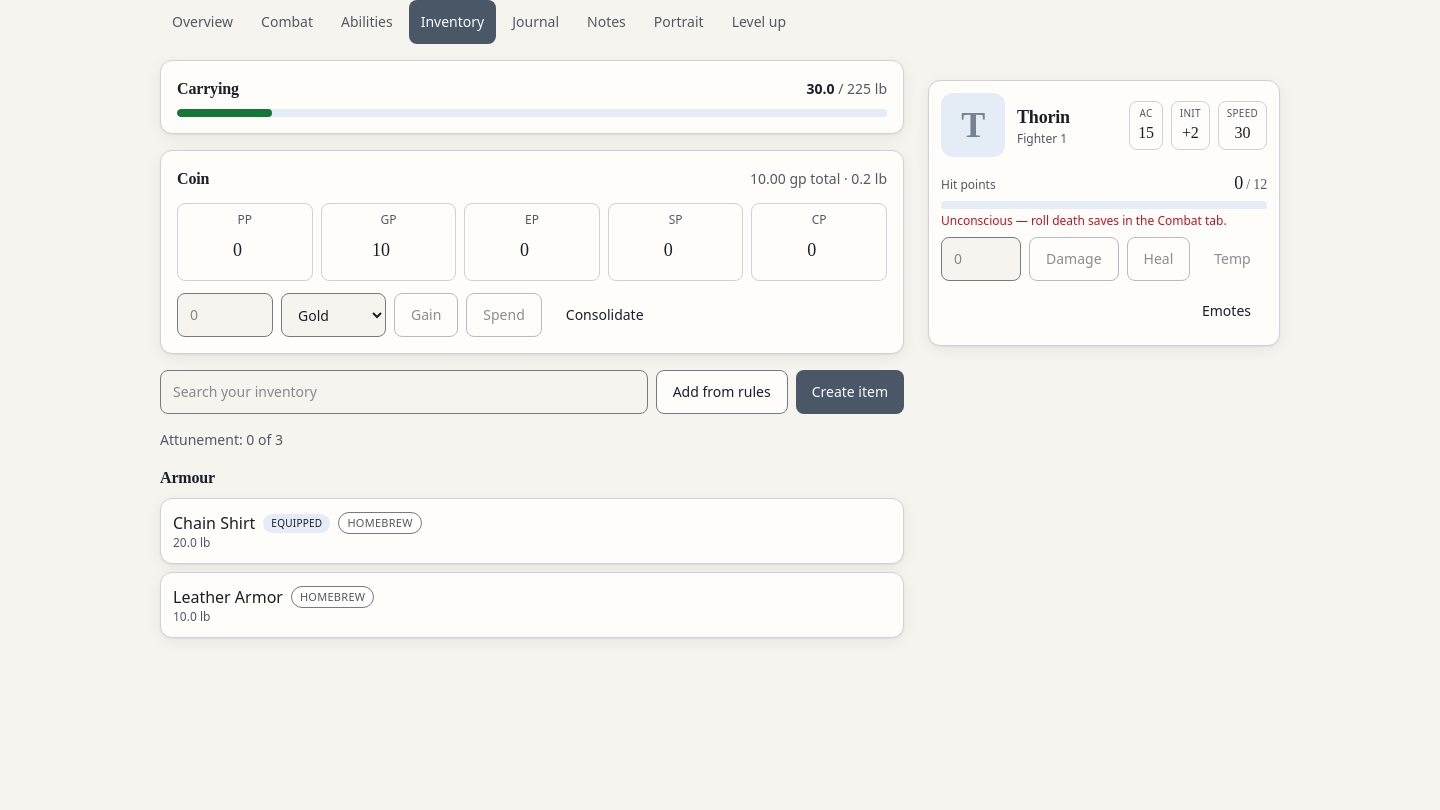
equipping moves the sheet › removes conflicting body armour automatically
The width and height of the screenshot is (1440, 810).
Click the text "Leather Armor": [228, 597] box [173,585,283,609]
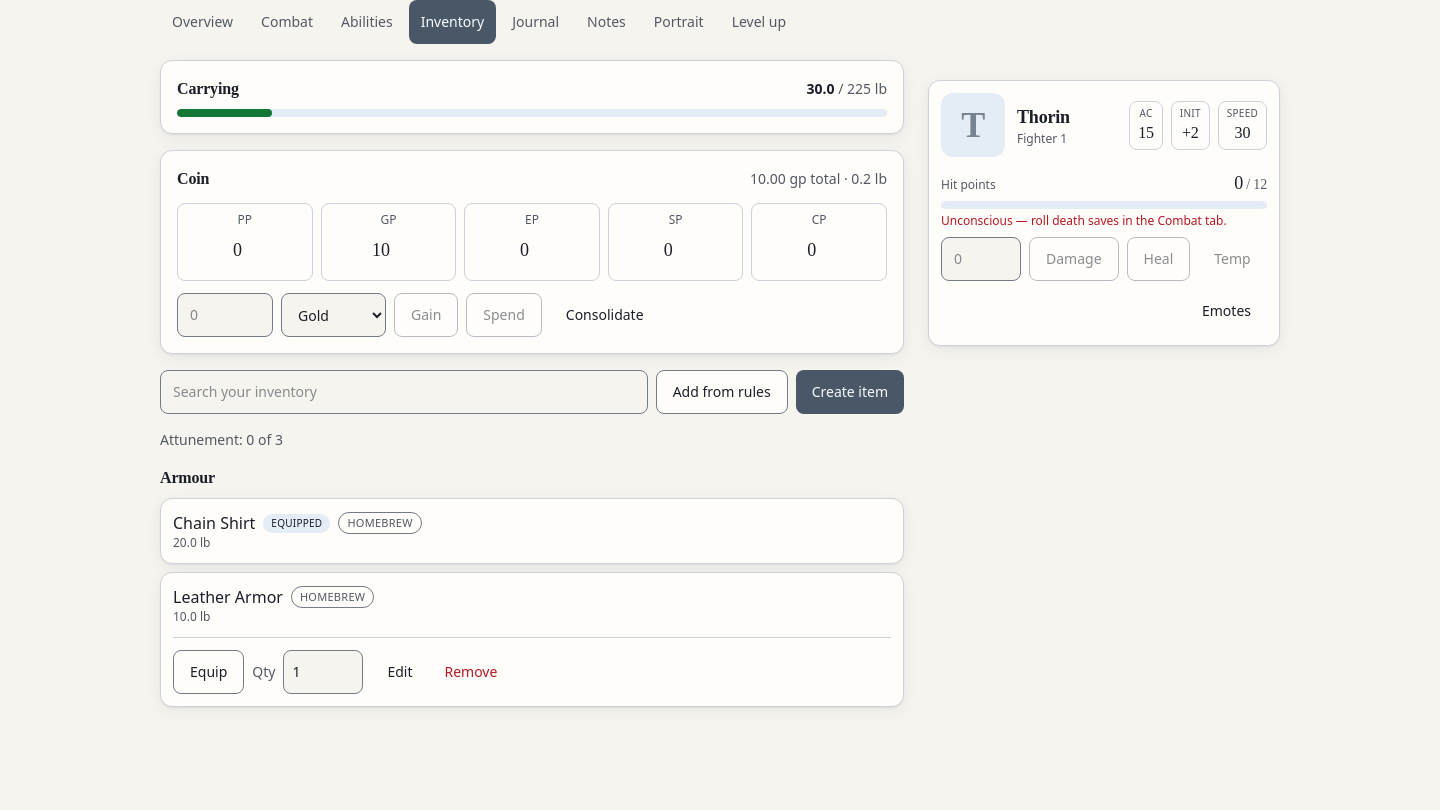
Click the button "Equip": [209, 672] box [173,650,244,694]
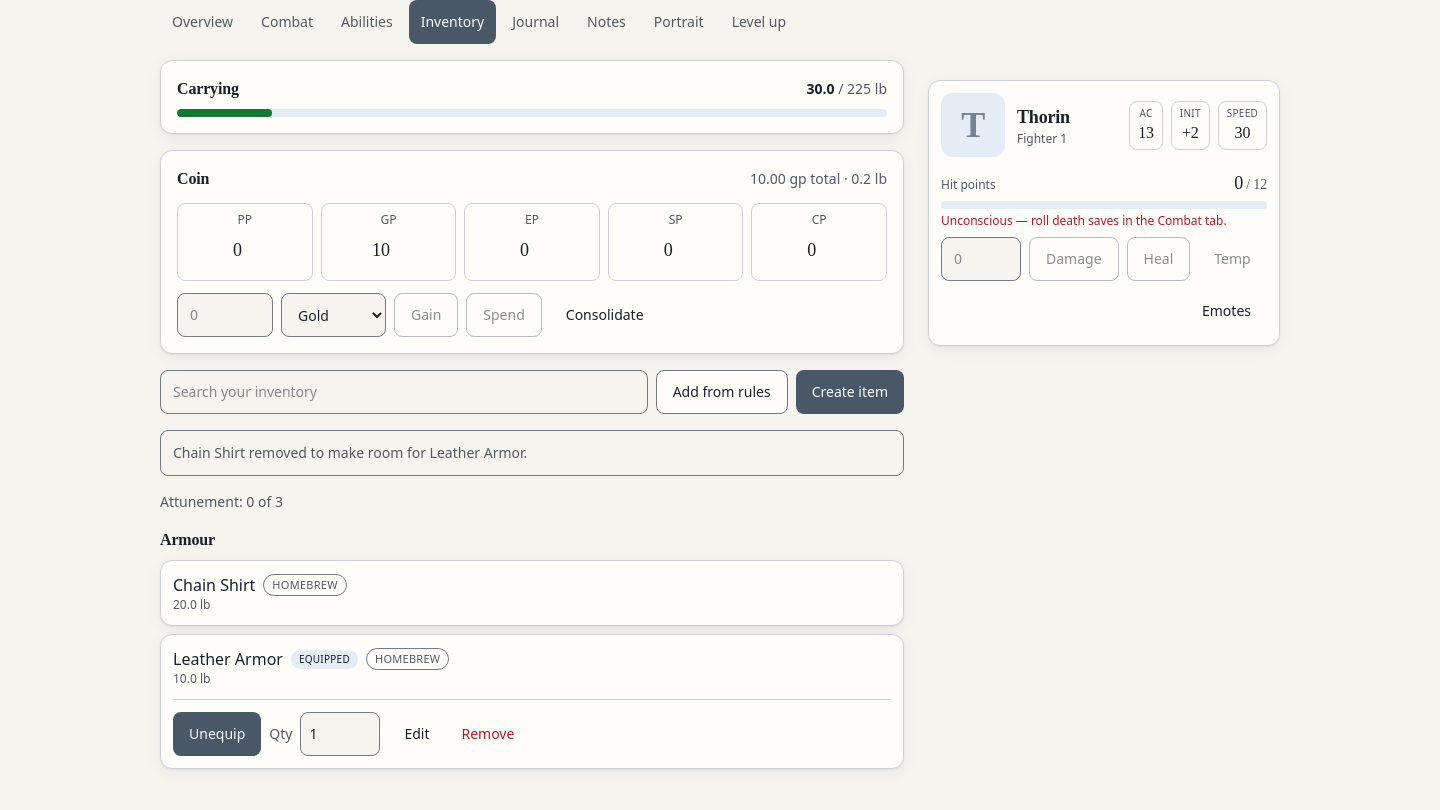
Expected: the text "Chain Shirt removed to make room for Leather Armor." is shown, [160,430,904,476]
